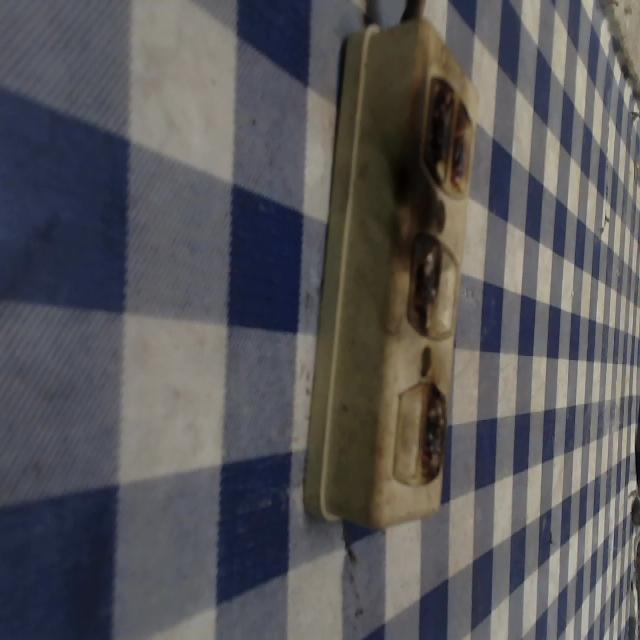-: (421, 71, 474, 197), (405, 230, 443, 338), (417, 376, 448, 488)
